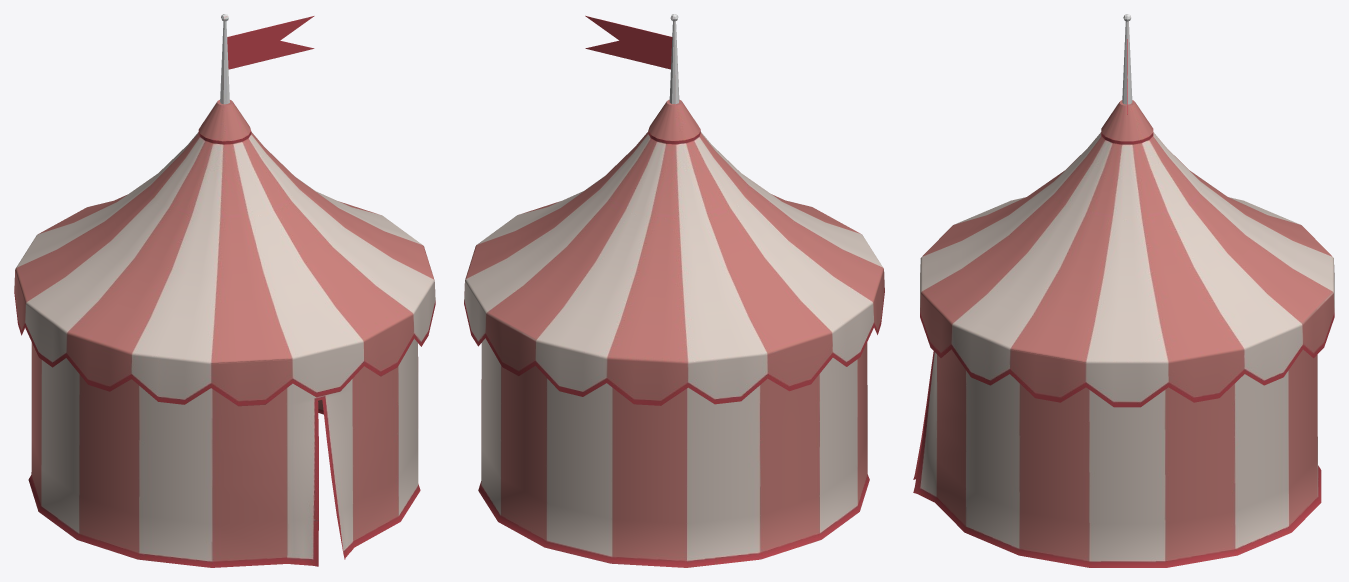
File: BUILDING_NormalHumor_1.1.fbx
3 views of the same model, side by side, from view 1: azimuth 30°, elevation 25°; view 2: azimuth 150°, elevation 25°; view 3: azimuth 270°, elevation 25° (orthographic).
Parts seen in each view (by area): view 1: BUILDING_NormalHumor_1.1_Baked; view 2: BUILDING_NormalHumor_1.1_Baked; view 3: BUILDING_NormalHumor_1.1_Baked.
Part boxes in pixels (x1,y1,x2,y2): BUILDING_NormalHumor_1.1_Baked: (14,14,435,567); BUILDING_NormalHumor_1.1_Baked: (464,14,884,567); BUILDING_NormalHumor_1.1_Baked: (913,14,1334,567).
Size of the model in its own units: 107 by 134 by 109.
